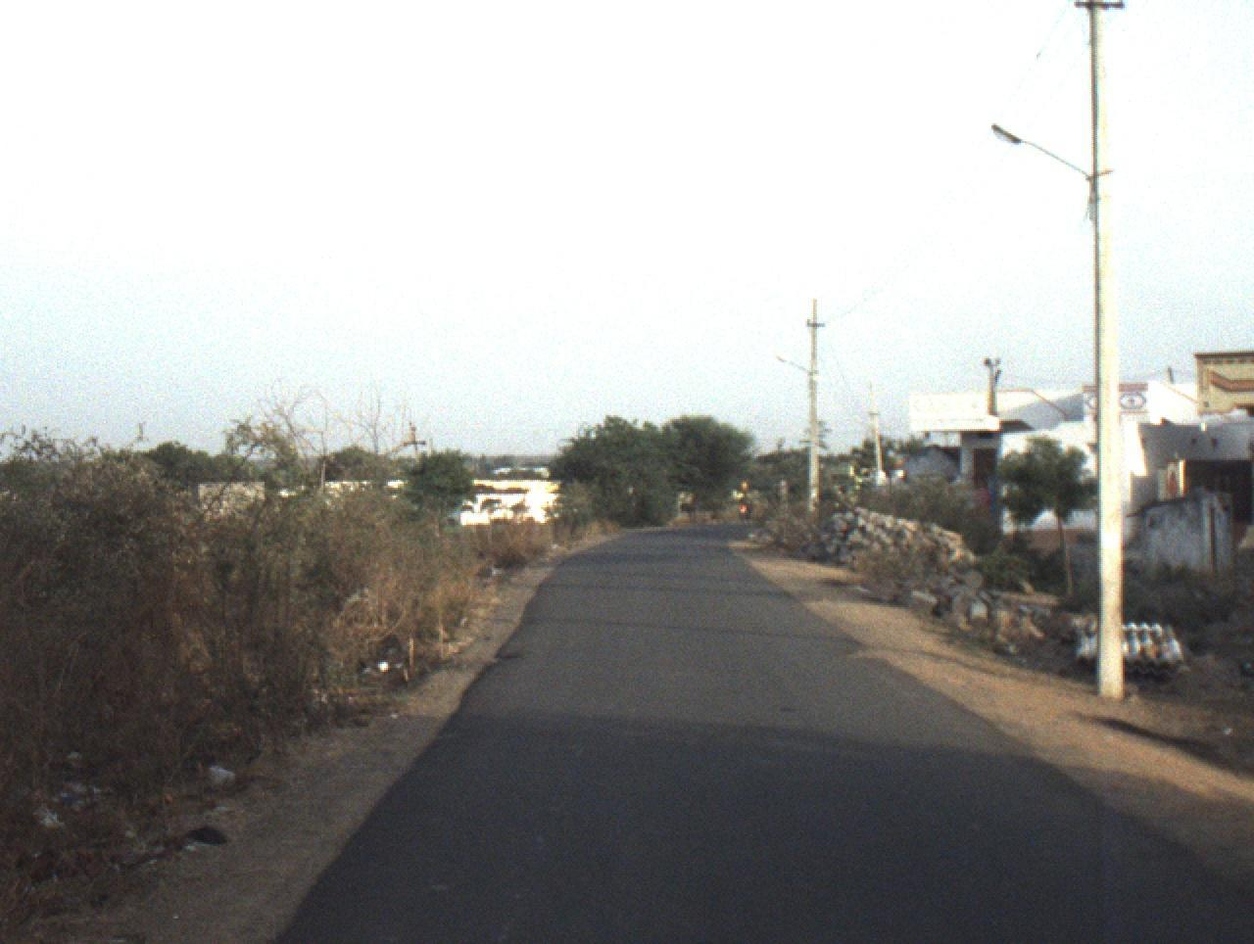streetlight: (990, 122, 1116, 220), (775, 354, 818, 394)
